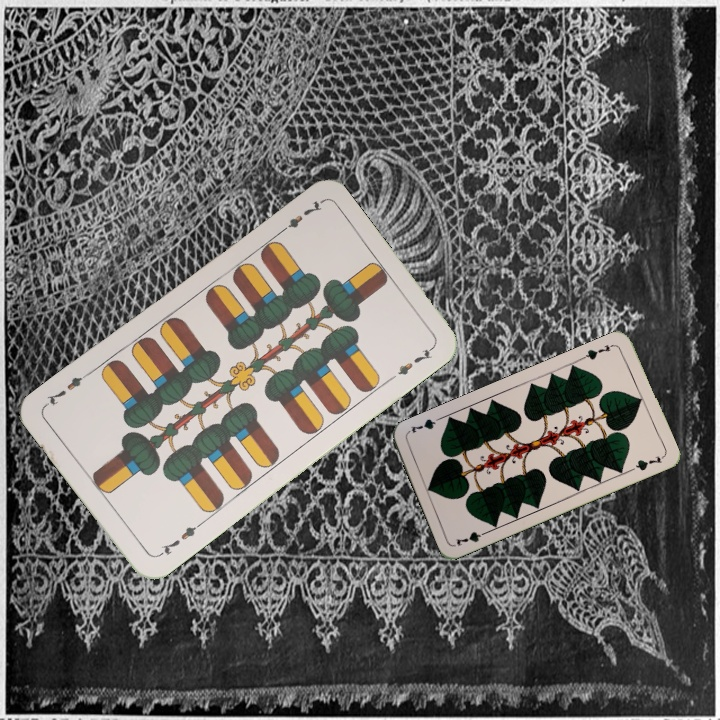E7: (273, 197, 325, 238), (154, 519, 204, 560)
G7: (452, 526, 492, 549), (578, 340, 617, 362)
